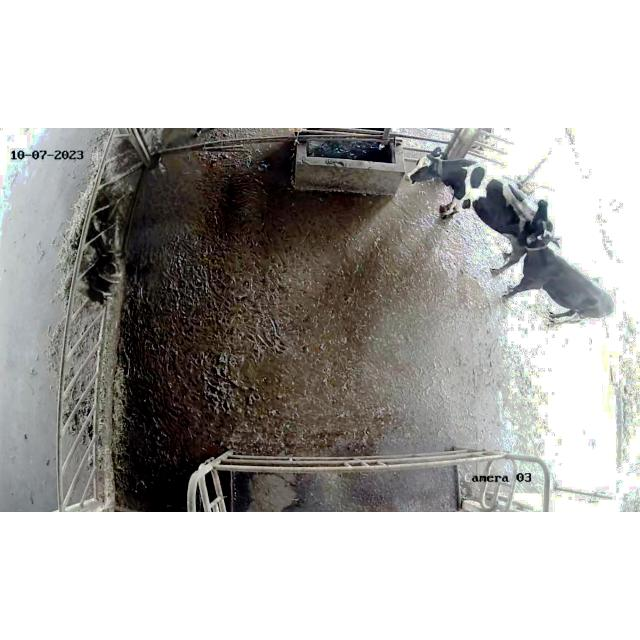propping: (501, 183, 572, 273)
